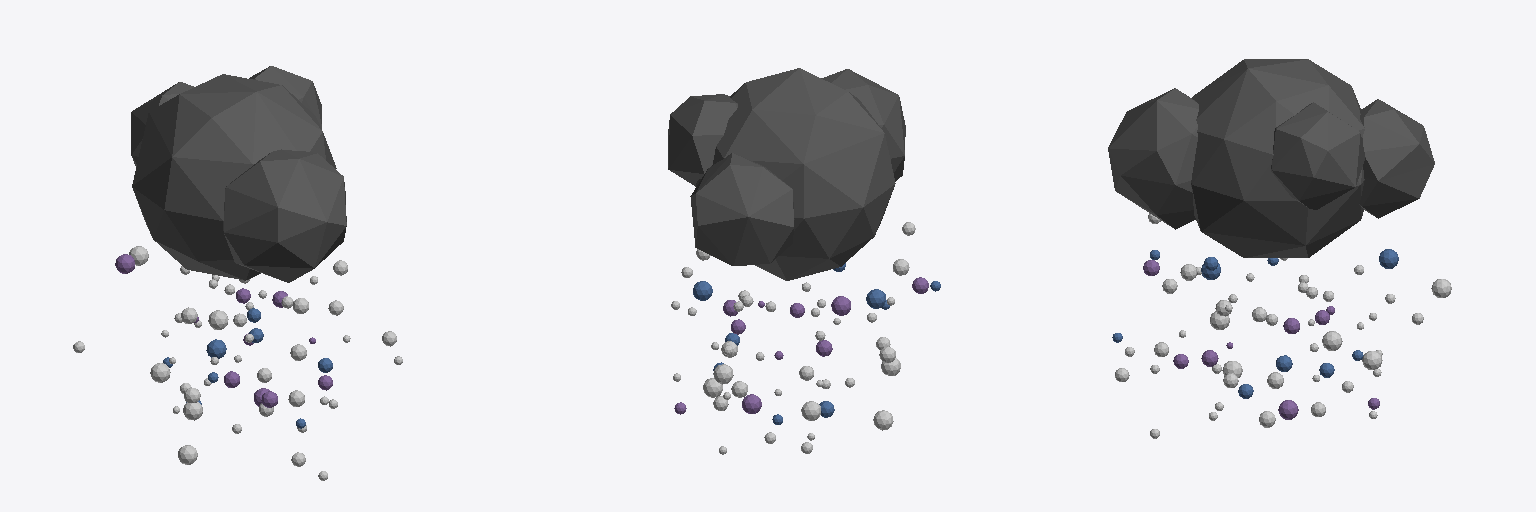
File: skater.obj
3 renders of one model, left to right at view 1: azimuth 30°, elevation 25°; view 2: azimuth 150°, elevation 25°; view 3: azimuth 270°, elevation 25°, orthographic.
Visible parts, largest first — view 1: Icosphere.002; view 2: Icosphere.002; view 3: Icosphere.002.
Boxes of the visible parts, x1=… form: Icosphere.002: x1=131, y1=66, x2=346, y2=282; Icosphere.002: x1=668, y1=68, x2=905, y2=280; Icosphere.002: x1=1108, y1=59, x2=1434, y2=257.
Size of the model in its own units: 3.85 by 5.86 by 5.08.